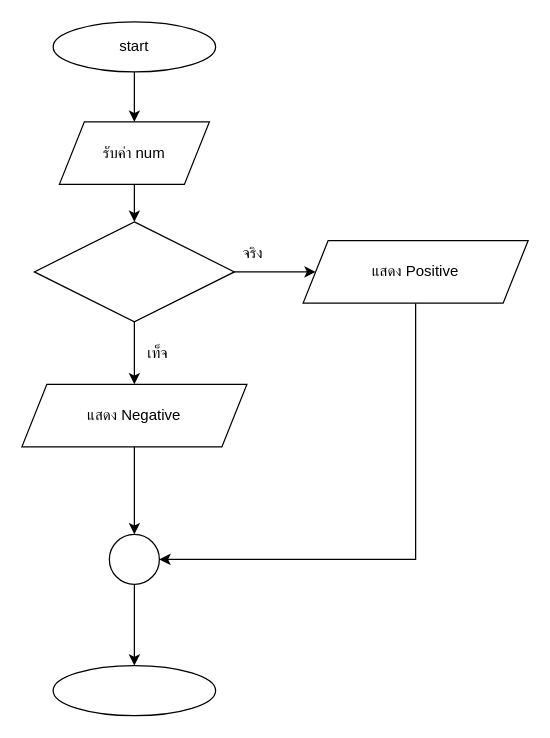
Some shapes in this 550 by 738 pixel diagram are drawn without their labels. Each missing label, with the centre of its shape:
end: pixel 134 690
num >= 0: pixel 133 271
